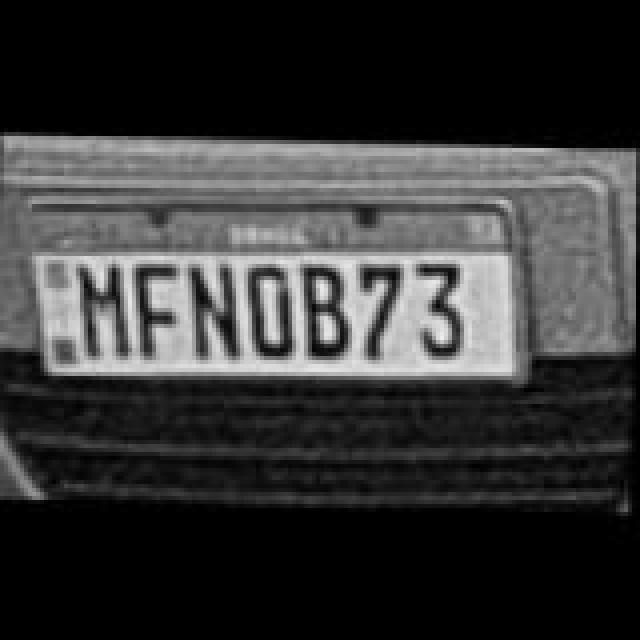3: (416, 260, 464, 356)
7: (358, 258, 410, 358)
B: (302, 260, 354, 360)
D: (250, 260, 302, 360)
F: (134, 256, 186, 356)
M: (76, 258, 132, 358)
N: (188, 258, 244, 358)
